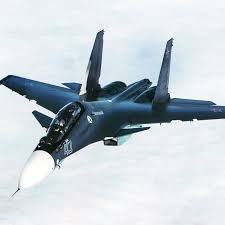maybay_muctieu: (3, 46, 225, 185)
